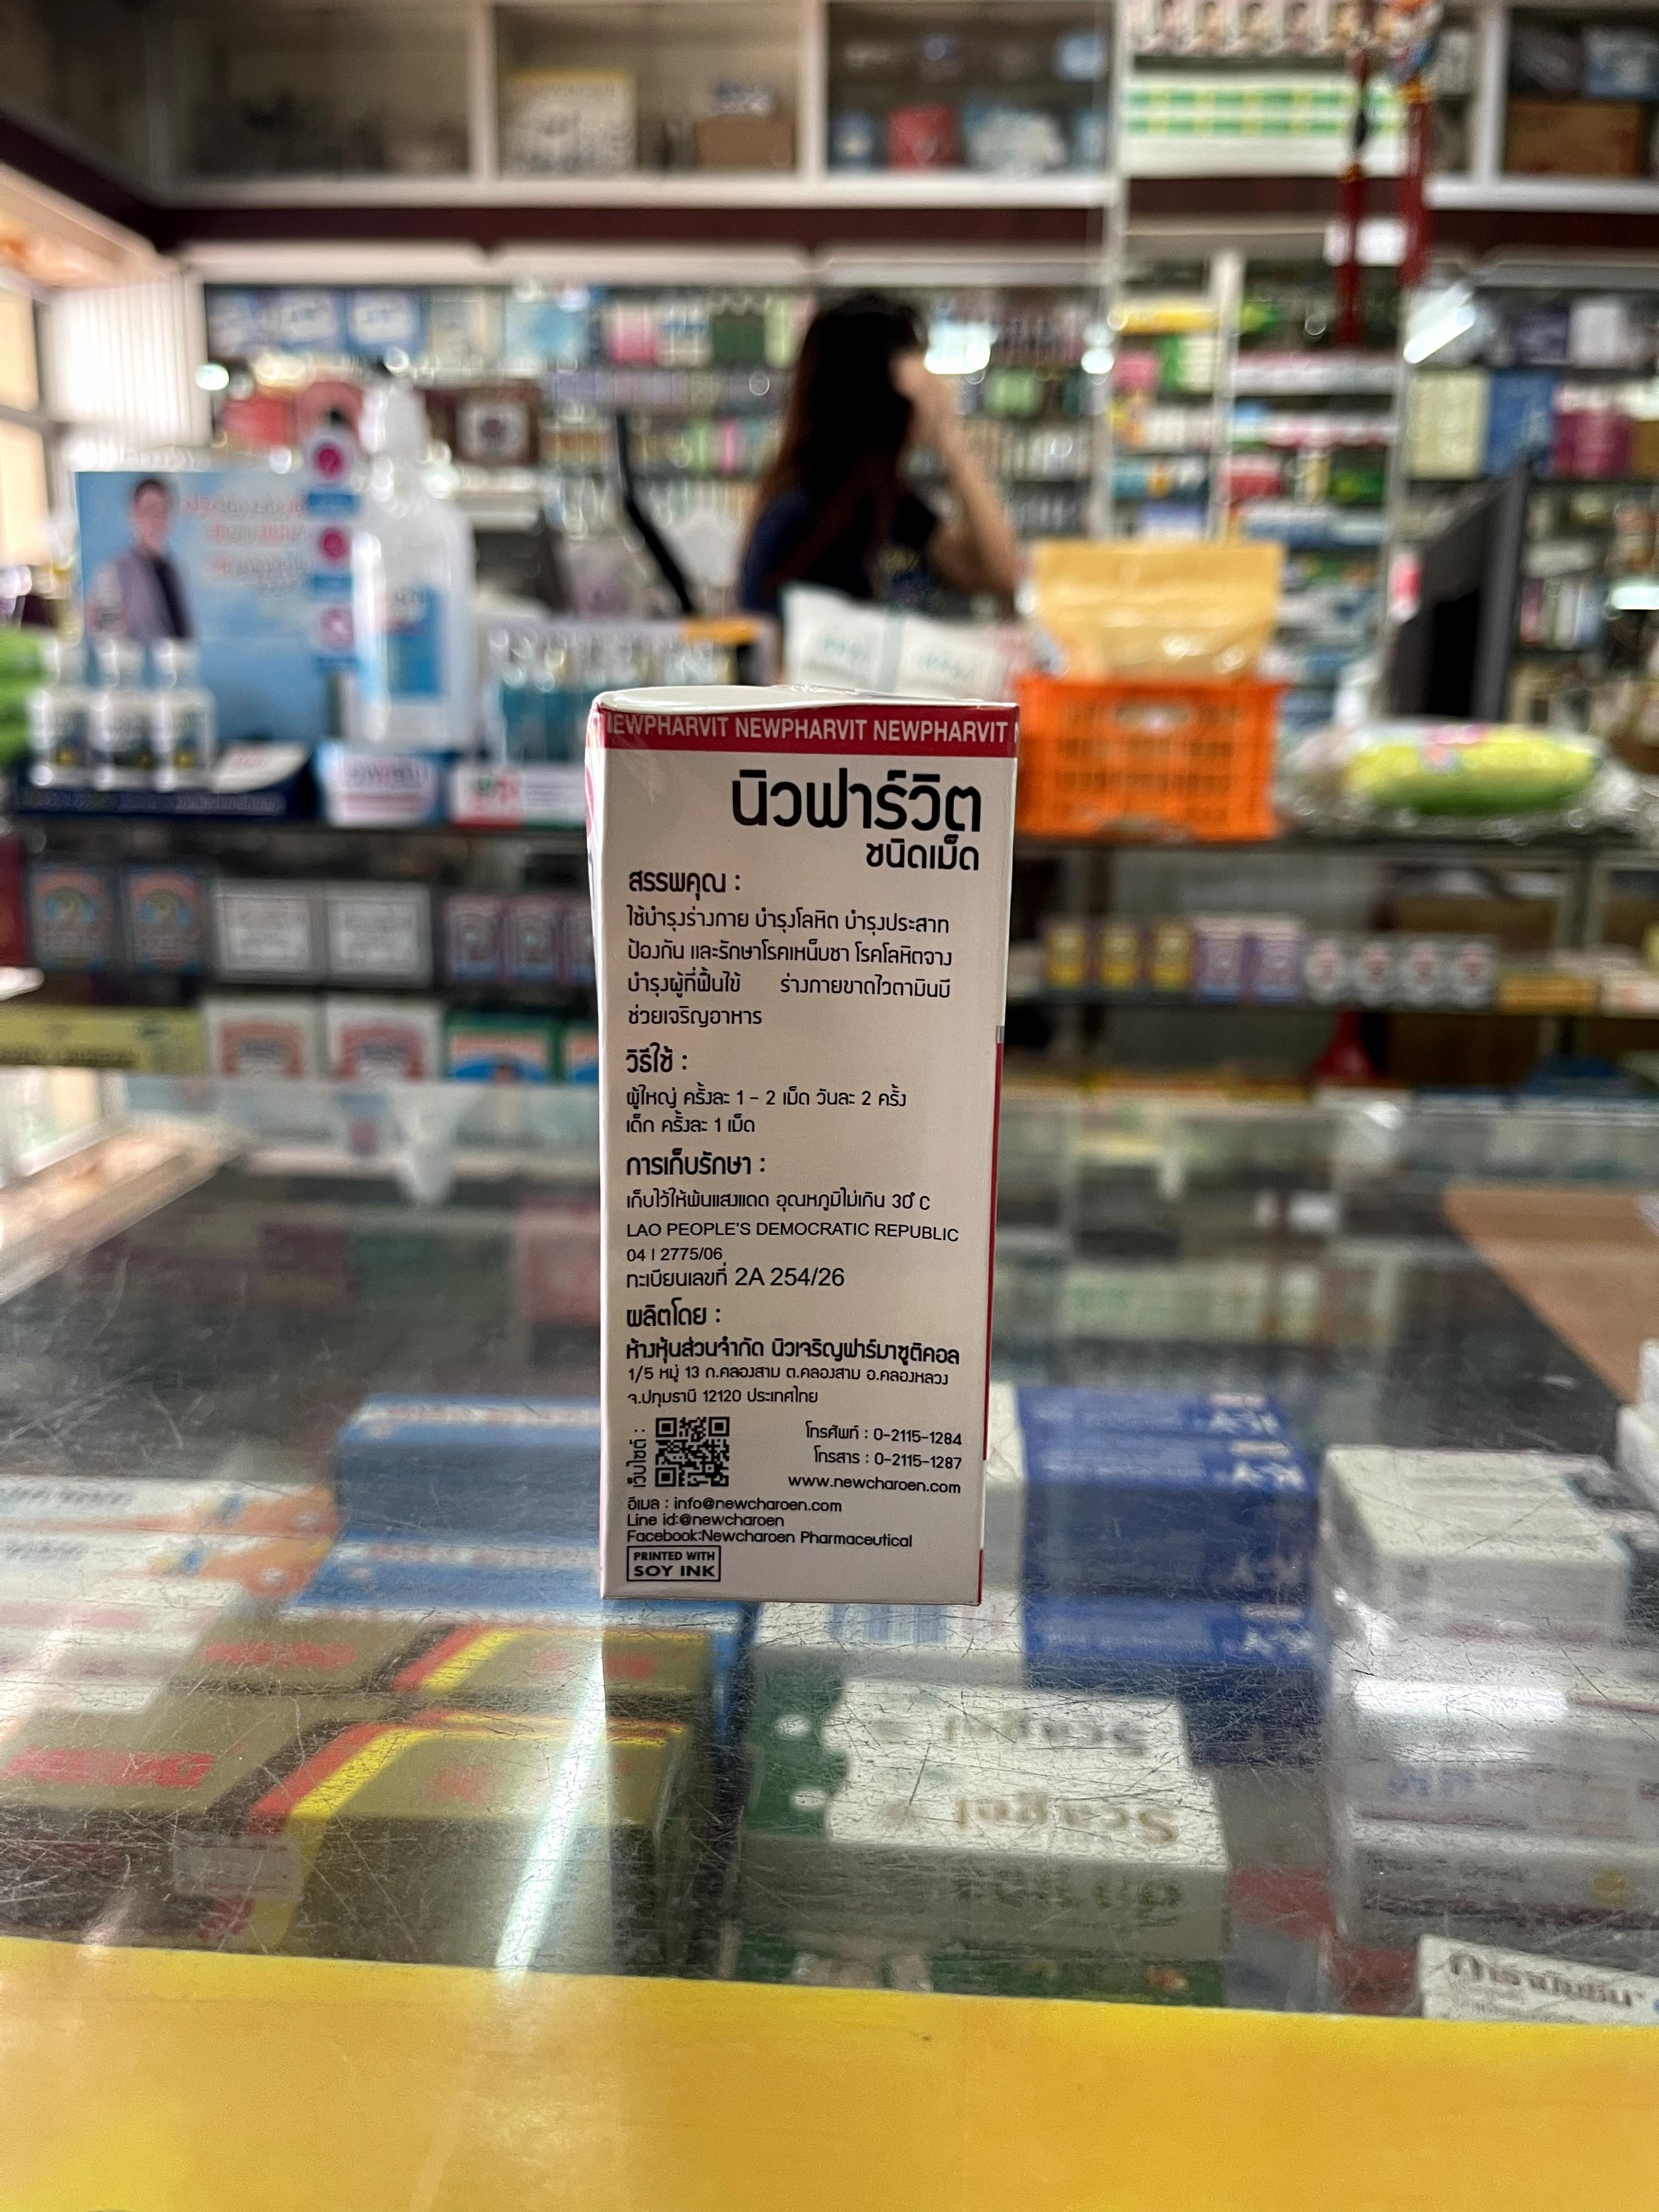Newpharvit: (596, 697, 1014, 1604)
